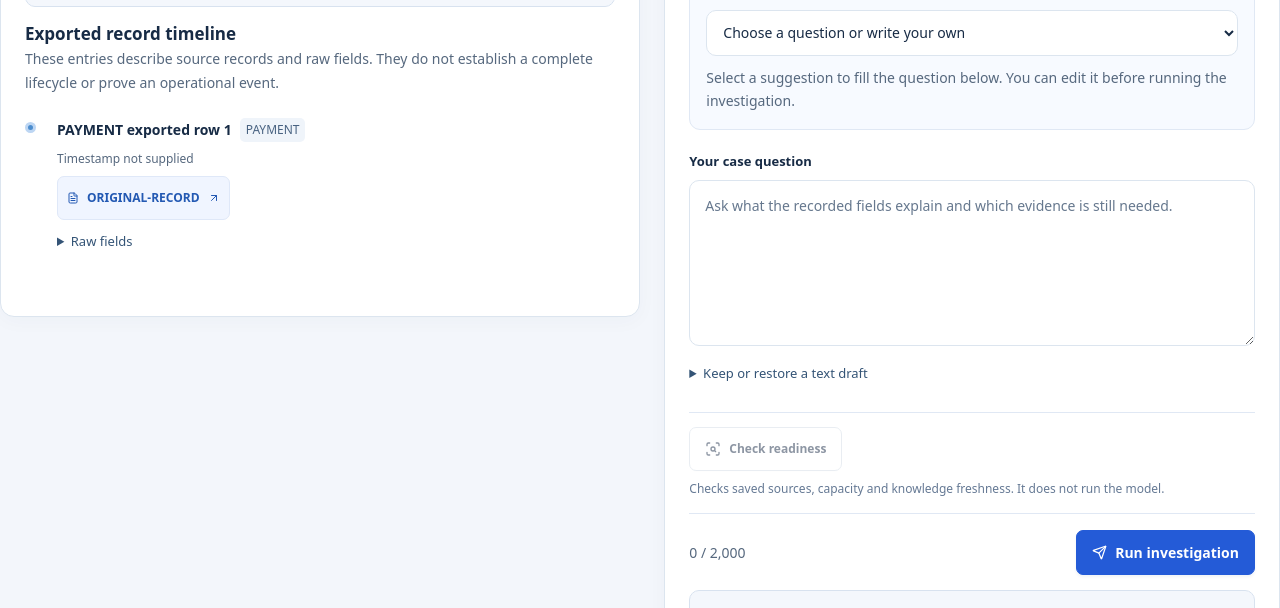
Test: case investigation workbench › drops the local timer and aborts a preparing request when the case changes
(page scrolled)
Replace the text in the text box labelled "Your case question" with "What does the original fixture establish?". click: (972, 263)
box: [689,180,1255,346]
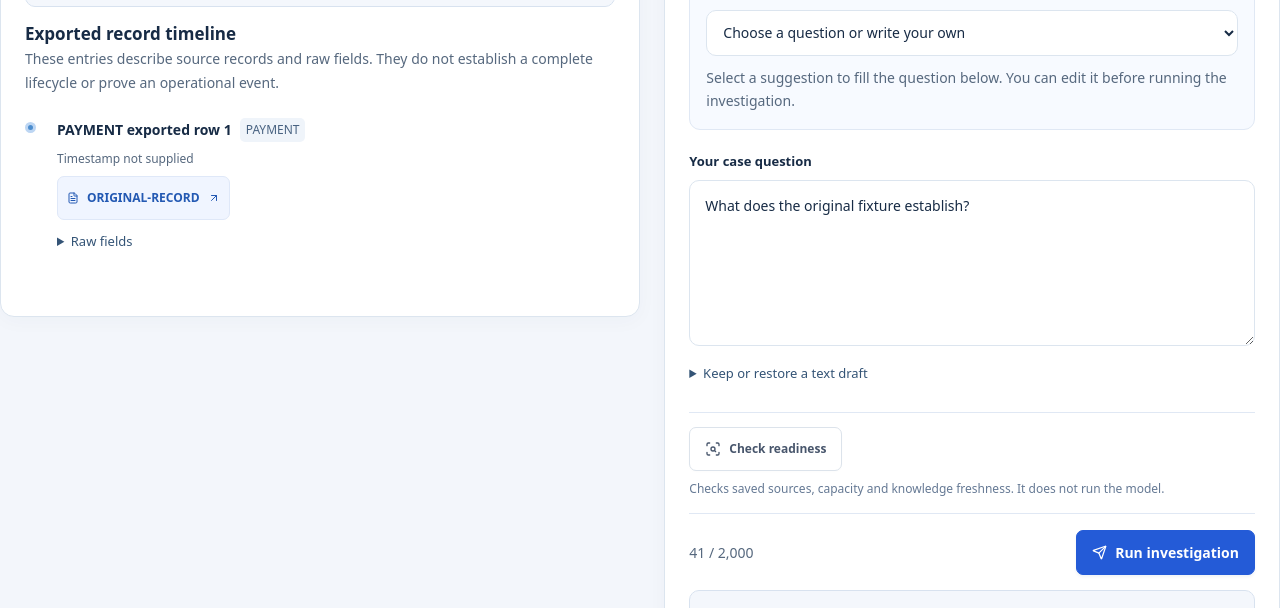
Click the button "Run investigation". click: (1166, 553)
box: [1076,530,1255,575]
(page scrolled)
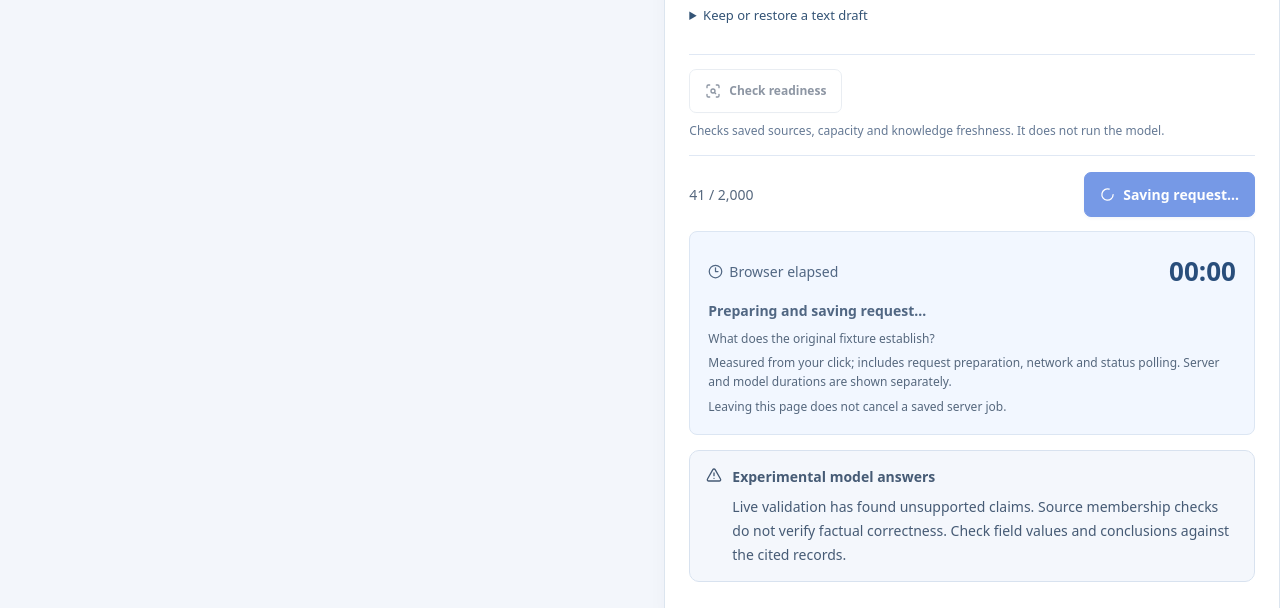
expect the text "00:00" is shown: met, box [1169,250,1236,293]
